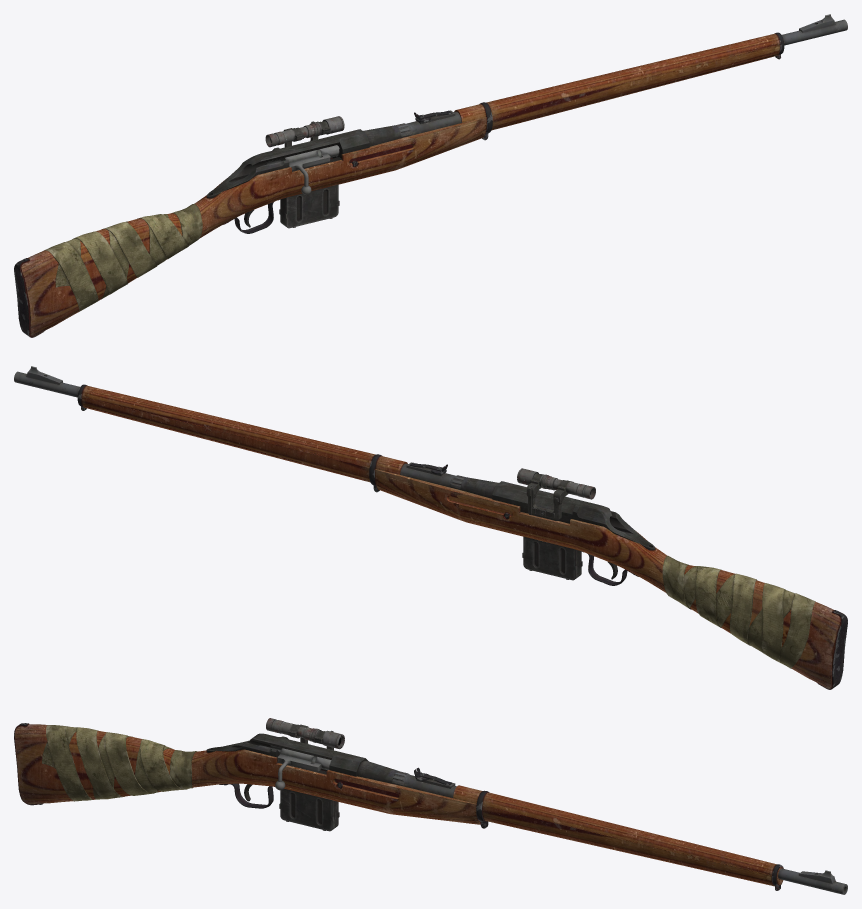
Rendered from bolt_action_rifle_7_62.glb.
The picture shows the model from 3 angles, top to bottom: view 1: azimuth 30°, elevation 25°; view 2: azimuth 150°, elevation 25°; view 3: azimuth 330°, elevation 25°; orthographic projection.
Visible parts, largest first — view 1: bolt_action_rifle_7_62, bolt_action_rifle_7_62_wrap, bolt_action_rifle_7_62_scope, bolt_action_rifle_7_62_bolt_a; view 2: bolt_action_rifle_7_62, bolt_action_rifle_7_62_wrap, bolt_action_rifle_7_62_scope; view 3: bolt_action_rifle_7_62, bolt_action_rifle_7_62_wrap, bolt_action_rifle_7_62_scope, bolt_action_rifle_7_62_bolt_a.
Boxes of the visible parts, box(x1,y1,x2,y2) form: bolt_action_rifle_7_62: box(14, 14, 847, 337); bolt_action_rifle_7_62_wrap: box(44, 203, 202, 311); bolt_action_rifle_7_62_scope: box(265, 116, 344, 147); bolt_action_rifle_7_62_bolt_a: box(259, 145, 339, 194); bolt_action_rifle_7_62: box(14, 366, 847, 689); bolt_action_rifle_7_62_wrap: box(662, 556, 815, 668); bolt_action_rifle_7_62_scope: box(517, 468, 595, 520); bolt_action_rifle_7_62: box(14, 723, 847, 894); bolt_action_rifle_7_62_wrap: box(42, 725, 197, 801); bolt_action_rifle_7_62_scope: box(266, 718, 344, 750); bolt_action_rifle_7_62_bolt_a: box(259, 745, 331, 790).
Size of the model in its own units: 1.23 by 0.2045 by 0.0666.
3 materials, 3 textured.
